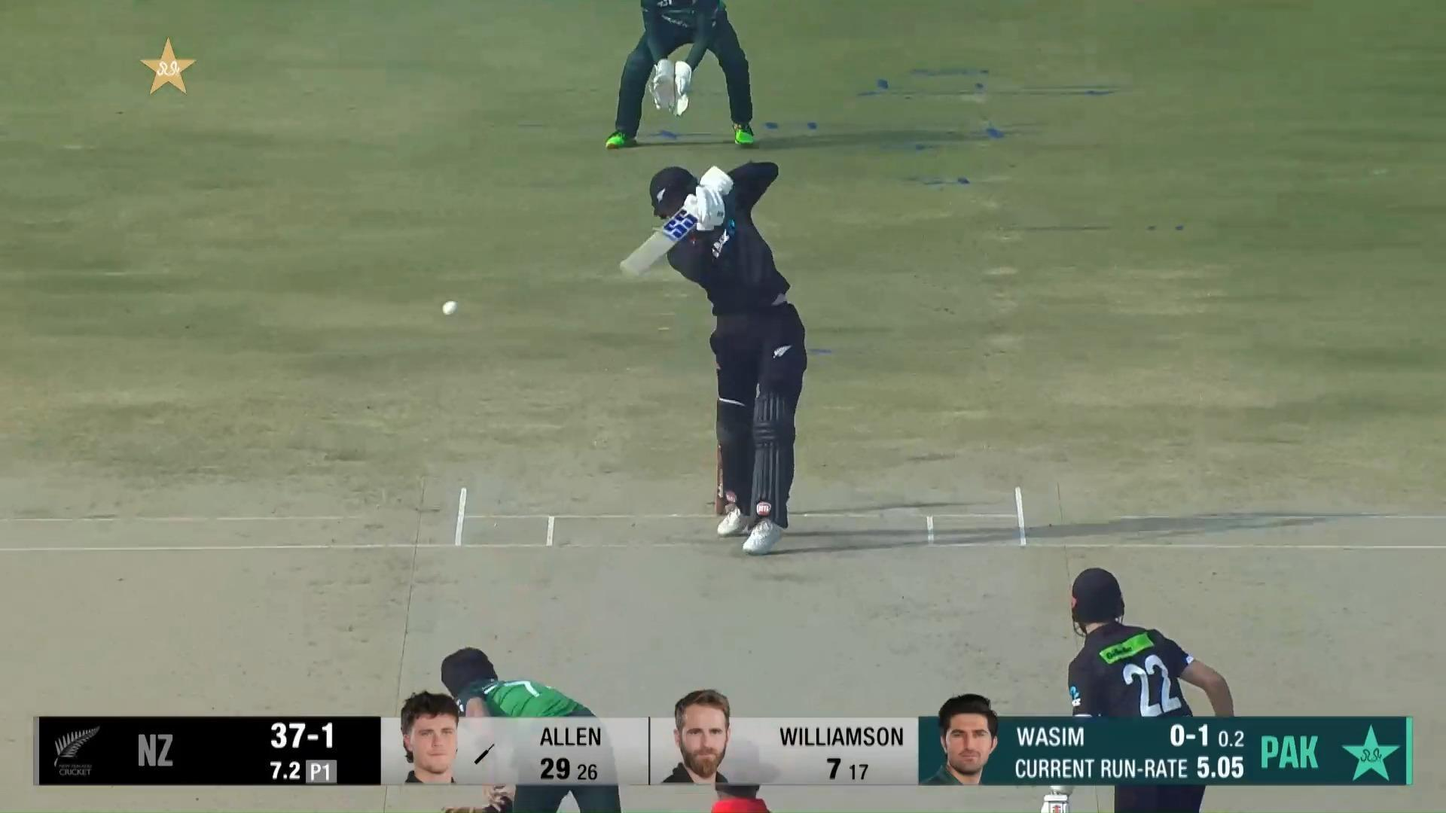BM 1: (618, 160, 810, 557)
BO: (437, 642, 625, 813)
